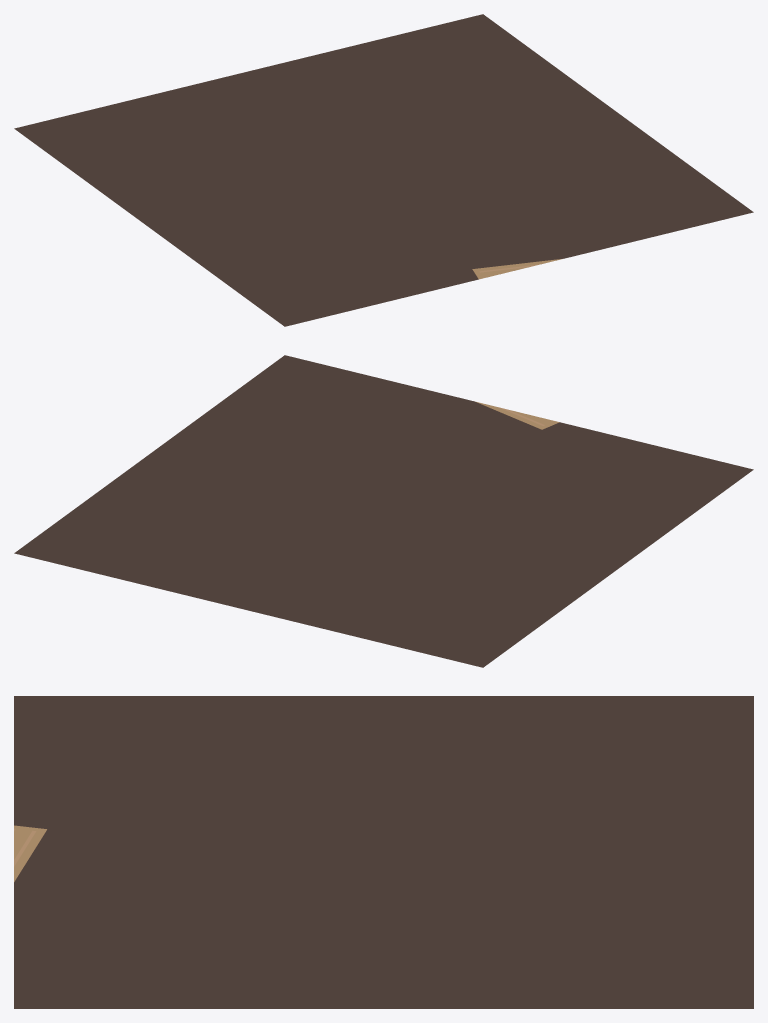
Rendered from crossing-5-4.glb.
3 renders of one model, top to bottom at view 1: azimuth 30°, elevation 25°; view 2: azimuth 150°, elevation 25°; view 3: azimuth 270°, elevation 25°, orthographic. The views are drawn at different scales.
Parts seen in each view (by area): view 1: crossing-5-4; view 2: crossing-5-4; view 3: crossing-5-4.
Boxes of the visible parts, <box> form: crossing-5-4: <box>14,14,753,326</box>; crossing-5-4: <box>14,355,753,667</box>; crossing-5-4: <box>14,696,753,1008</box>.
Size of the model in its own units: 100 by 0.0044 by 100.
